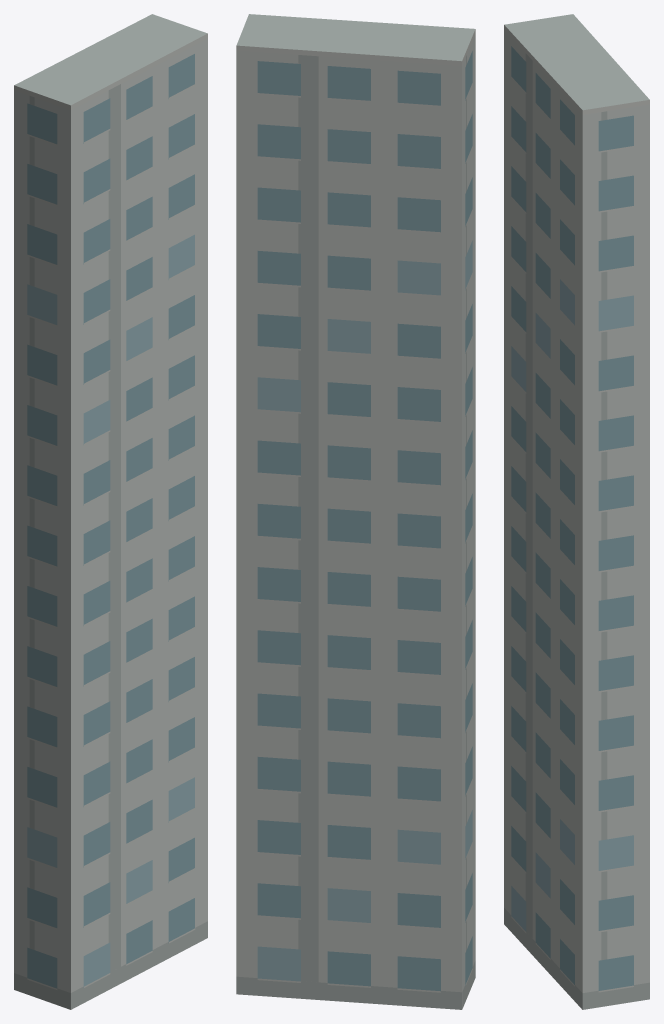
The model's file is survey-upis-32825911.glb.
3 renders of one model, left to right at view 1: azimuth 30°, elevation 25°; view 2: azimuth 150°, elevation 25°; view 3: azimuth 270°, elevation 25°, orthographic. The views are drawn at different scales.
Parts seen in each view (by area): view 1: survey-upis-32825911.tmp; view 2: survey-upis-32825911.tmp; view 3: survey-upis-32825911.tmp.
Boxes of the visible parts, box(x1,y1,x2,y2) form: survey-upis-32825911.tmp: box(14, 14, 207, 1009); survey-upis-32825911.tmp: box(236, 14, 475, 1009); survey-upis-32825911.tmp: box(504, 14, 649, 1009).
Size of the model in its own units: 10.52 by 45.75 by 6.73.
